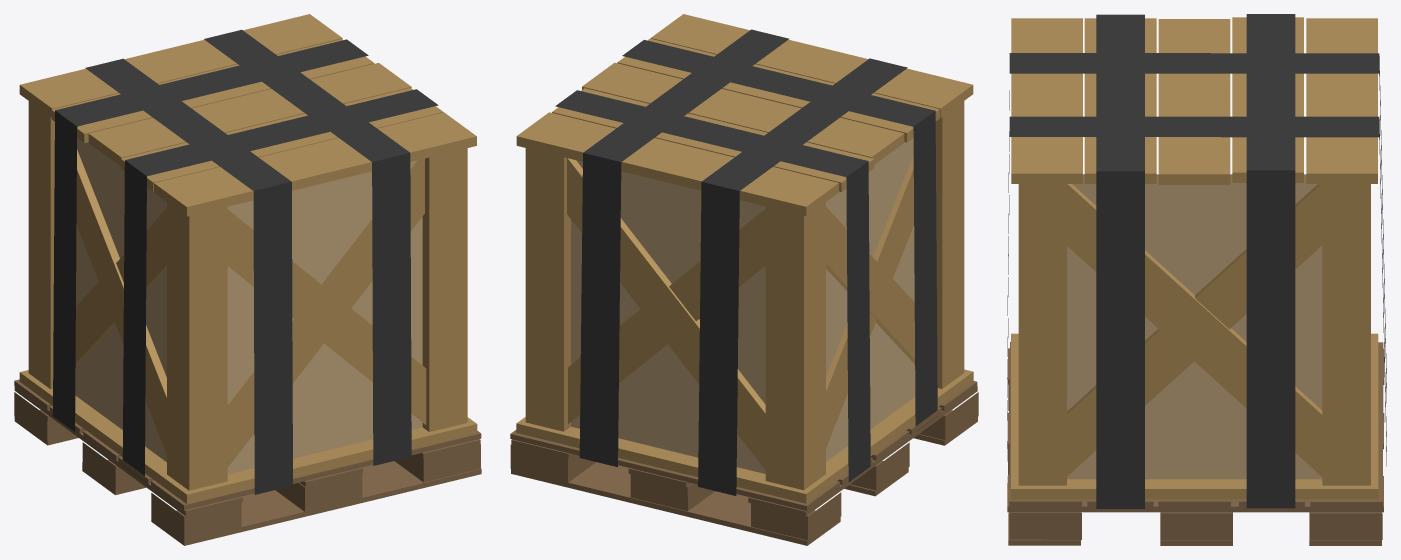
File: SingleCrate.glb
3 renders of one model, left to right at view 1: azimuth 30°, elevation 25°; view 2: azimuth 150°, elevation 25°; view 3: azimuth 270°, elevation 25°, orthographic. The views are drawn at different scales.
Parts seen in each view (by area): view 1: singleCrate; view 2: singleCrate; view 3: singleCrate.
Boxes of the visible parts, left/top/right/bottom form: singleCrate: left=14, top=14, right=481, bottom=545; singleCrate: left=510, top=14, right=978, bottom=545; singleCrate: left=1007, top=14, right=1386, bottom=545.
Size of the model in its own units: 0.9378 by 1.01 by 0.9335.
Materials: 1 (1 with a texture image).
